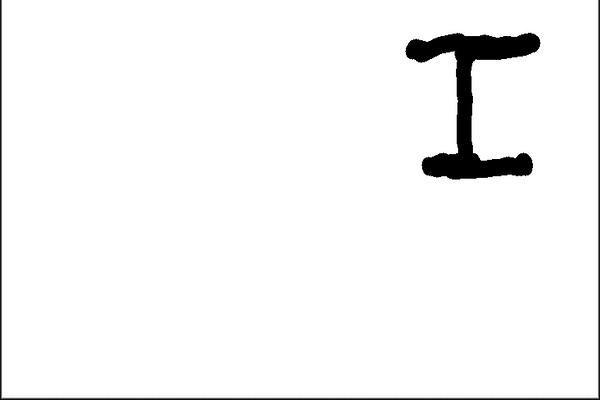i: (399, 22, 548, 198)
